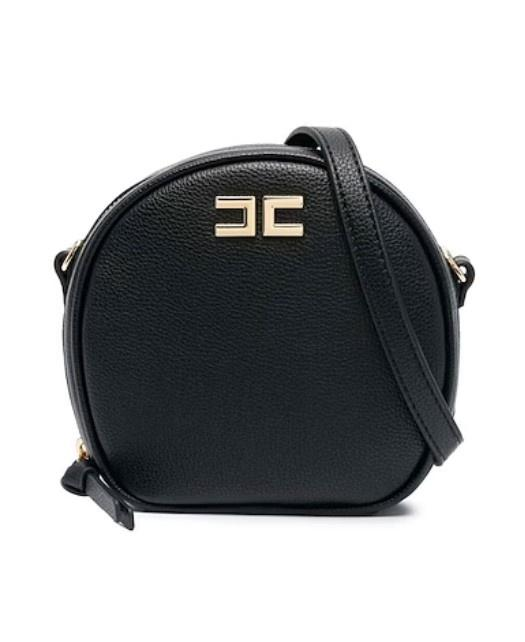ELISABETTA-FRANCHI: (209, 183, 314, 249)
